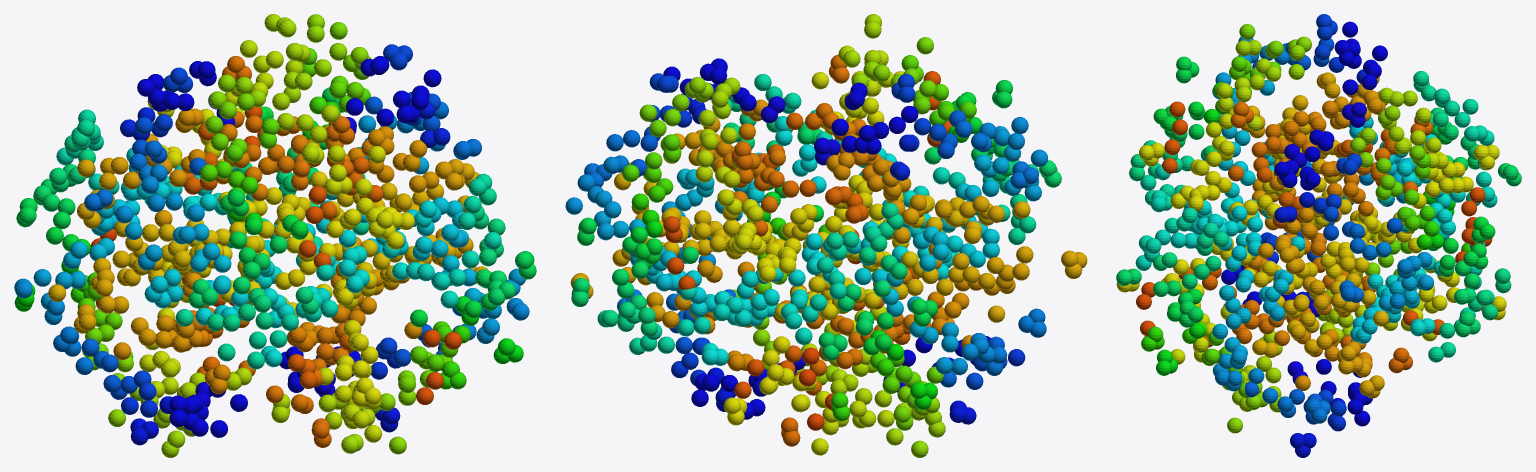
Rendered from 4hhb__spheres__rainbow__H.glb.
3 renders of one model, left to right at view 1: azimuth 30°, elevation 25°; view 2: azimuth 150°, elevation 25°; view 3: azimuth 270°, elevation 25°, orthographic. The views are drawn at different scales.
Visible parts, largest first — view 1: Renderer Node; view 2: Renderer Node; view 3: Renderer Node.
Part boxes in pixels (box(x1,y1,x2,y2)): Renderer Node: box(14, 14, 536, 457); Renderer Node: box(565, 14, 1087, 457); Renderer Node: box(1116, 14, 1521, 457).
Size of the model in its own units: 70.72 by 60.52 by 61.02.
